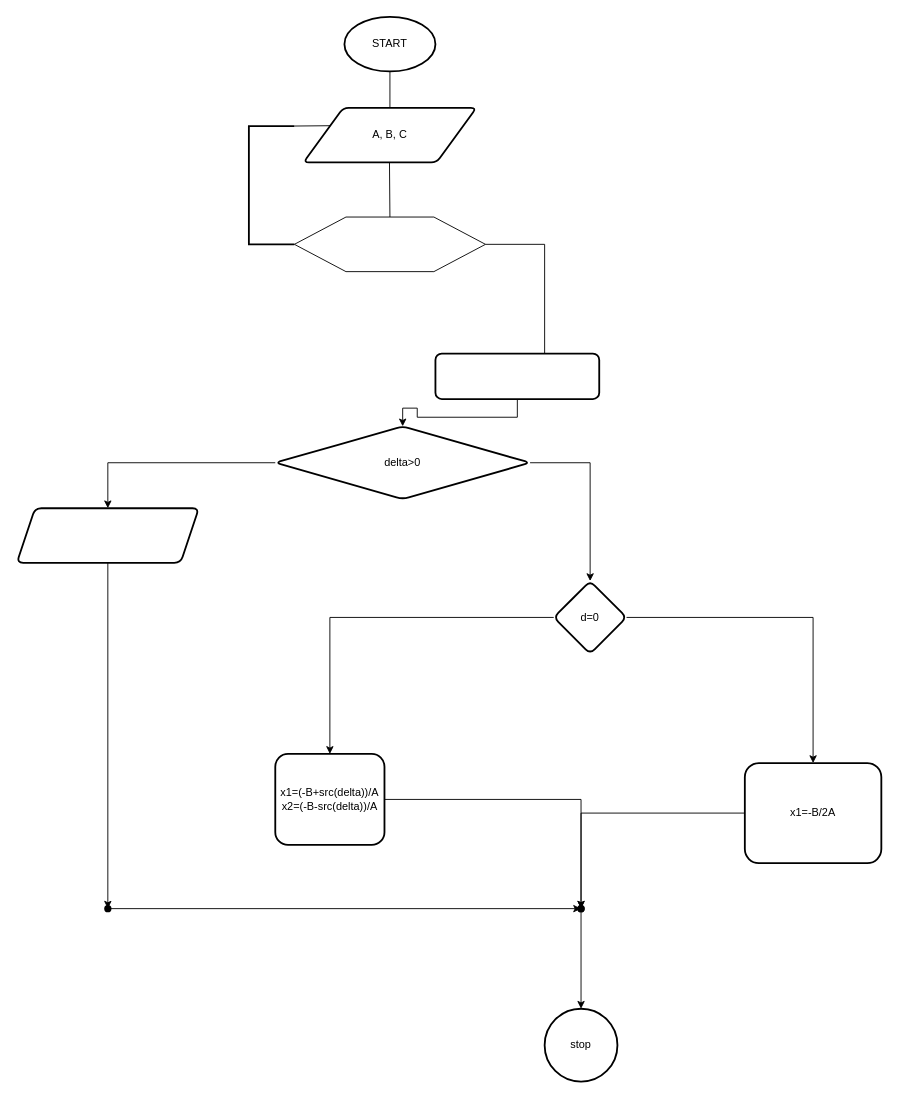
The diagram is 897 pixels wide and 1097 high, and some of its shapes have lost their labels. The shapes that lost their labels are listed below. From the top down, each one's box as (x1, y1, x2, y2) in pixels, then its label:
(293, 216, 485, 272): A=0
(434, 352, 600, 399): delta=B^2-4AC
(15, 507, 199, 563): brak miejsc zerowych
